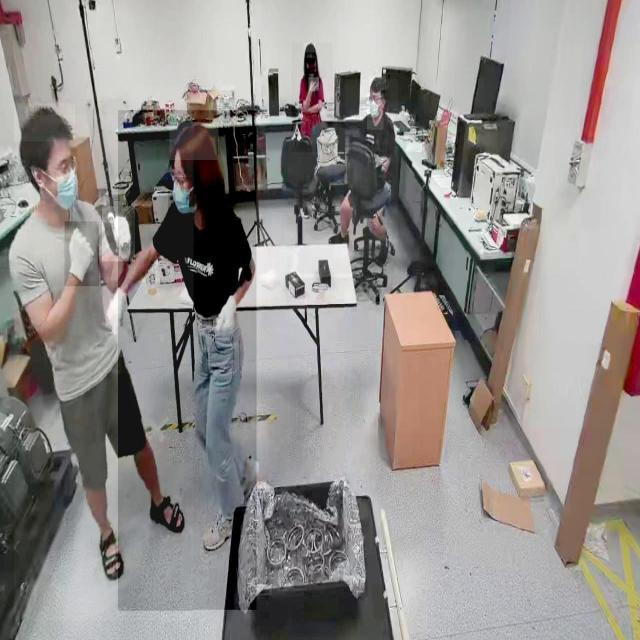face_mask: (46, 164, 80, 212), (168, 177, 194, 225), (367, 93, 383, 130)
face_nomask: (304, 58, 316, 74)
hand_glove: (65, 222, 99, 286), (102, 206, 135, 262), (214, 295, 240, 352), (106, 284, 128, 342)
hand_noglove: (308, 77, 320, 91)
head_nohelmet: (14, 103, 76, 142), (169, 122, 219, 161), (369, 76, 387, 90), (304, 43, 316, 53)
person: (14, 115, 194, 621), (118, 110, 257, 611), (334, 79, 398, 259), (291, 43, 333, 153)
shoes: (202, 501, 242, 556)
